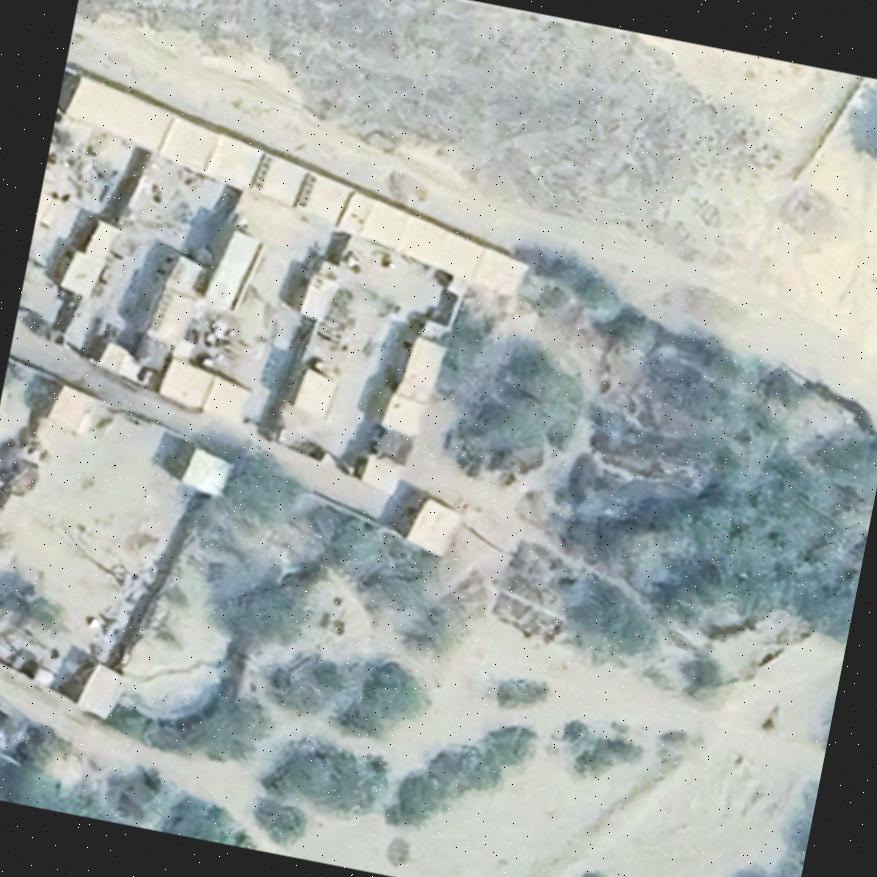Solarpanel: (250, 151, 276, 190), (292, 171, 317, 209)
